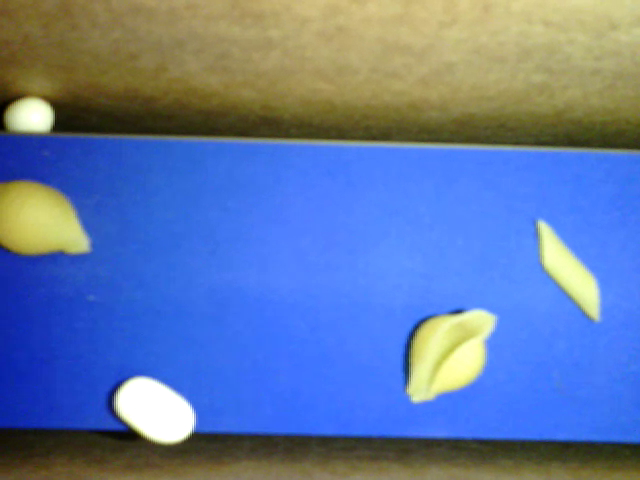penne: (536, 218, 601, 322)
shell: (404, 305, 496, 402), (1, 180, 92, 257)
